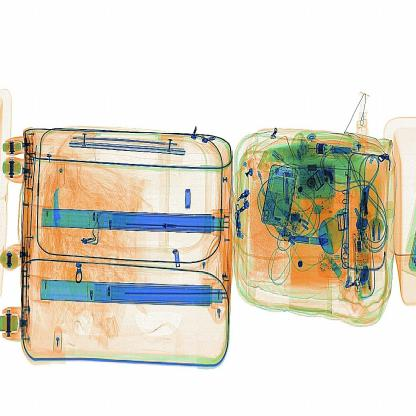wrench: (46, 174, 70, 266)
